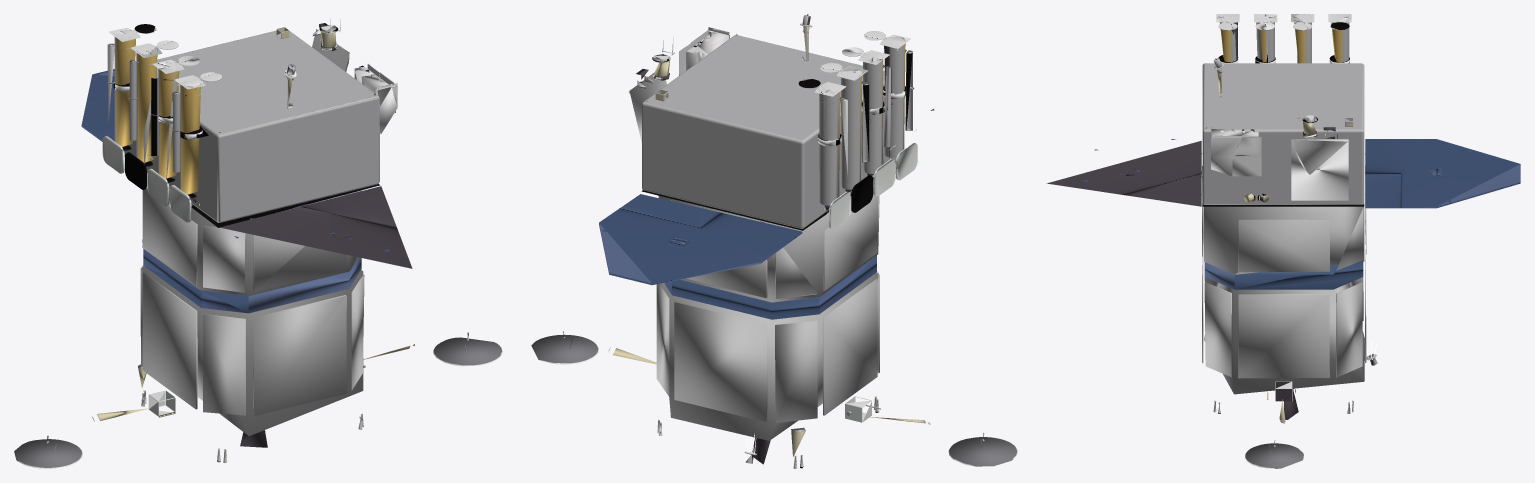
File: sdo.glb
The picture shows the model from 3 angles, left to right: view 1: azimuth 30°, elevation 25°; view 2: azimuth 150°, elevation 25°; view 3: azimuth 270°, elevation 25°; orthographic projection. The views are drawn at different scales.
Visible parts, largest first — view 1: Fake; view 2: Fake; view 3: Fake.
Part boxes in pixels (x1,y1,x2,y2): Fake: (14, 19, 502, 468); Fake: (531, 14, 1017, 468); Fake: (1046, 14, 1520, 468).
Size of the model in its own units: 37.02 by 30.73 by 37.03.
Materials: 2 (2 with a texture image).
